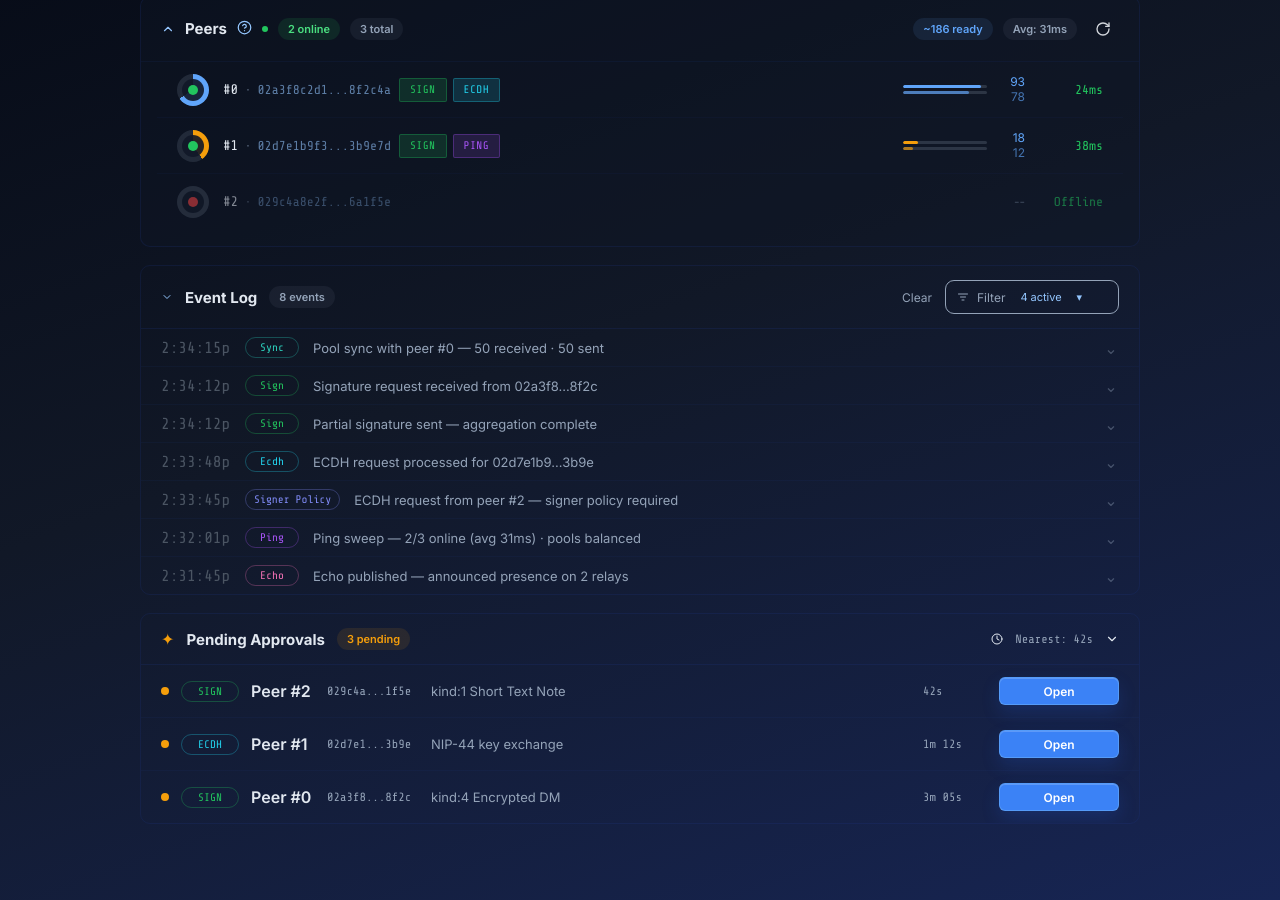
Scenario: VAL-DSH-017 / VAL-DSH-022 — Signer Policy Prompt modal › VAL-DSH-022 — clicking Open on the first Pending Approvals row opens the Signer Policy modal
(page scrolled)
Click first Open button
Click the button with aria-label "Open approval 1": (1059, 691) x1=999 y1=677 x2=1119 y2=705
(page scrolled)
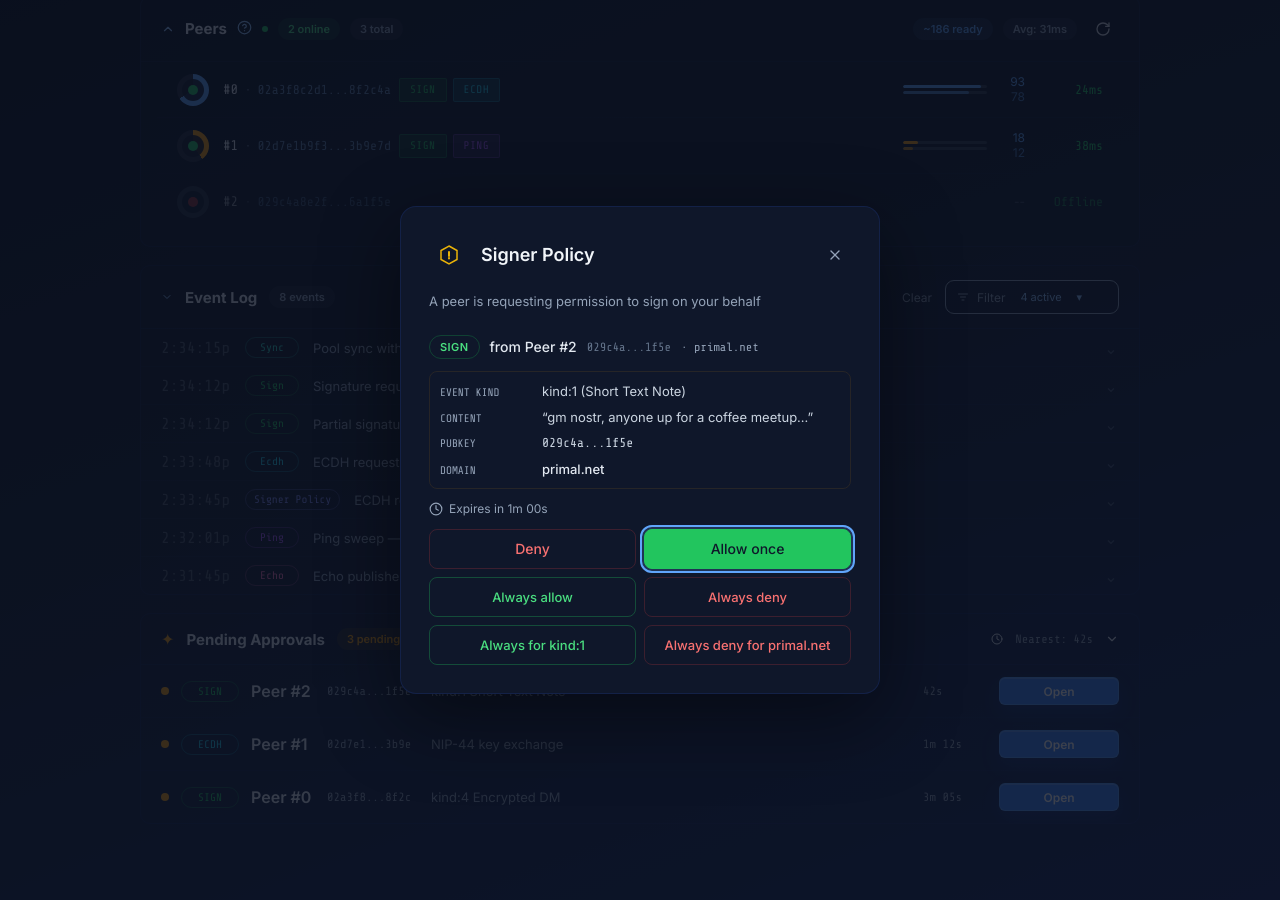
Check: the heading "Signer Policy" is shown, box x1=481 y1=244 x2=595 y2=266
Check: the text "A peer is requesting permission to sign on your behalf" is shown, box x1=429 y1=293 x2=761 y2=309
